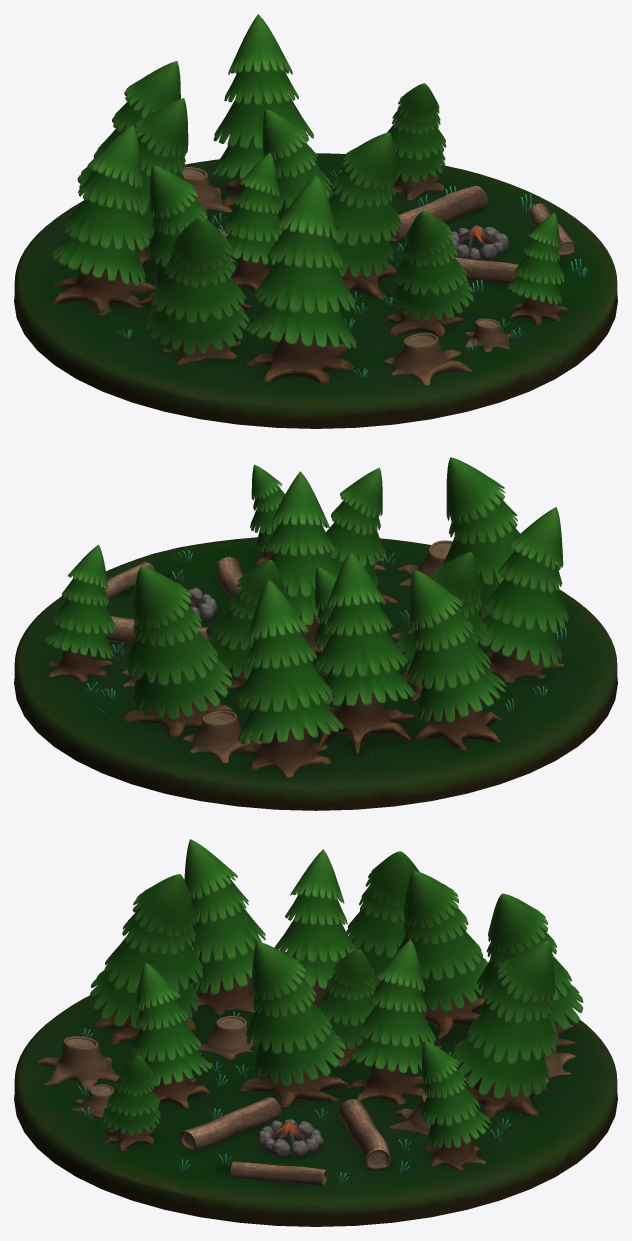
Rendered from stylized_campfire.glb.
The picture shows the model from 3 angles, top to bottom: view 1: azimuth 30°, elevation 25°; view 2: azimuth 150°, elevation 25°; view 3: azimuth 270°, elevation 25°; orthographic projection.
Parts seen in each view (by area): view 1: hojas_arboles_hojas_0, suelo1_suelo_0, troncos_arboles_tronco_0, troncoscortados_Default_Material_0, troncos_silla_tronco_silla_0, grass2_grass1_0, piedras_standardSurface1_0; view 2: hojas_arboles_hojas_0, suelo1_suelo_0, troncos_arboles_tronco_0, troncoscortados_Default_Material_0, troncos_silla_tronco_silla_0, grass2_grass1_0, piedras_standardSurface1_0; view 3: hojas_arboles_hojas_0, suelo1_suelo_0, troncos_arboles_tronco_0, troncoscortados_Default_Material_0, troncos_silla_tronco_silla_0, piedras_standardSurface1_0, grass2_grass1_0.
Boxes of the visible parts, x1,y1,x2,y2 form: hojas_arboles_hojas_0: [51, 14, 564, 355]; suelo1_suelo_0: [14, 153, 617, 428]; troncos_arboles_tronco_0: [52, 166, 569, 383]; troncoscortados_Default_Material_0: [182, 166, 510, 385]; troncos_silla_tronco_silla_0: [390, 186, 576, 284]; grass2_grass1_0: [69, 170, 587, 379]; piedras_standardSurface1_0: [449, 225, 509, 261]; hojas_arboles_hojas_0: [44, 457, 569, 744]; suelo1_suelo_0: [14, 537, 617, 810]; troncos_arboles_tronco_0: [46, 476, 563, 777]; troncoscortados_Default_Material_0: [122, 540, 452, 762]; troncos_silla_tronco_silla_0: [103, 557, 242, 643]; grass2_grass1_0: [85, 550, 566, 764]; piedras_standardSurface1_0: [188, 587, 216, 624]; hojas_arboles_hojas_0: [90, 839, 583, 1149]; suelo1_suelo_0: [14, 951, 617, 1226]; troncos_arboles_tronco_0: [93, 972, 576, 1170]; troncoscortados_Default_Material_0: [37, 1016, 575, 1135]; troncos_silla_tronco_silla_0: [179, 1097, 390, 1186]; piedras_standardSurface1_0: [256, 1119, 323, 1158]; grass2_grass1_0: [78, 1011, 575, 1188].
Bounding box in the file's own units: 0.2635 × 0.0928 × 0.2635.
Materials: 8 (8 with a texture image).
